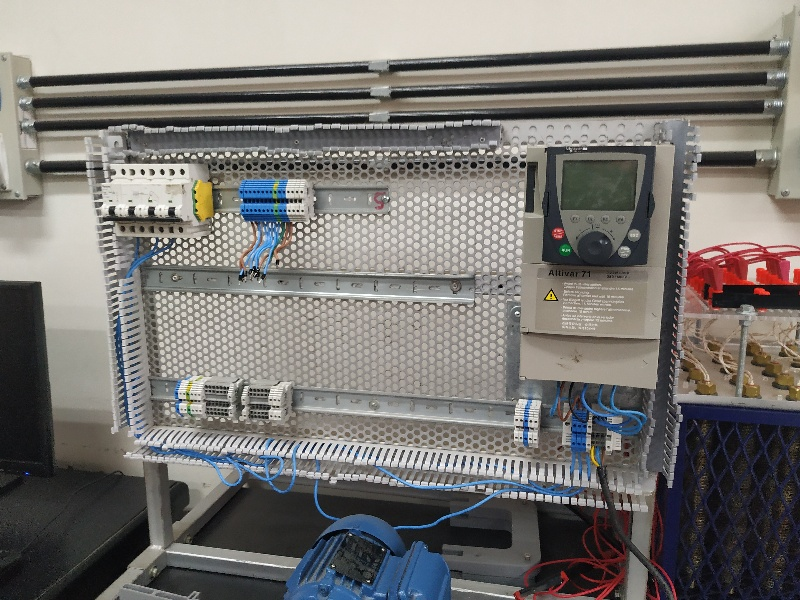Tablero 0: (95, 130, 689, 485)
